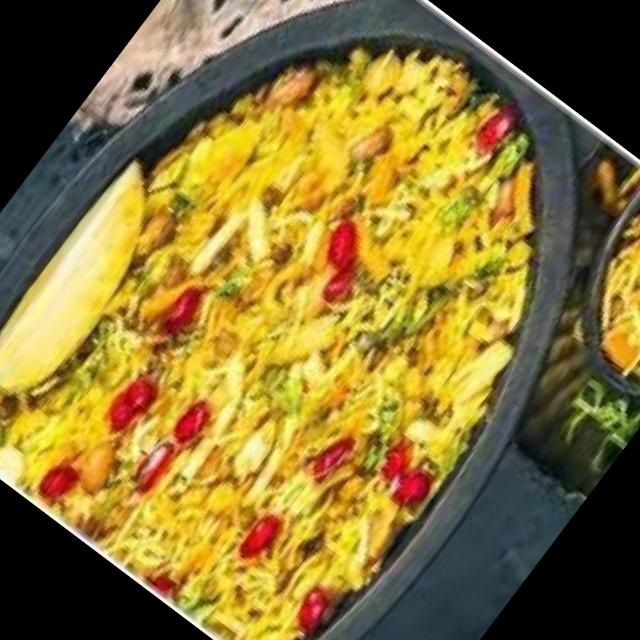poha: (0, 0, 640, 640), (557, 179, 640, 400)
